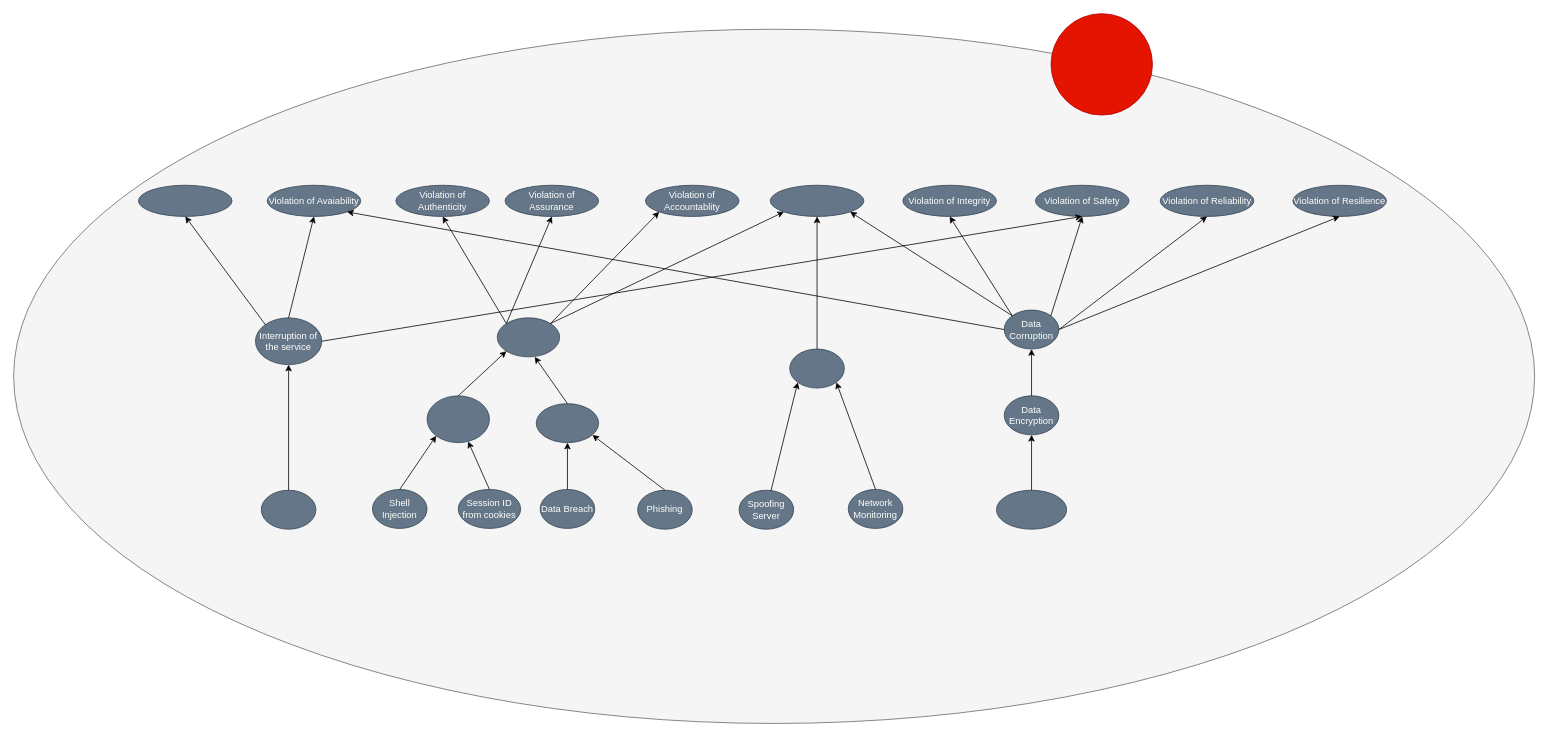
This 1548x737 diagram has some shape labels left out. Here are the shapes that lost their labels. From the top down, the centre of each, then its label:
the point at 1101,64: Outside Attacker
the point at 185,200: System Unavaiability
the point at 816,200: Violation of Confidentiality
the point at 528,337: Unauthorized Acces
the point at 816,368: Interception
the point at 457,419: Privilege Escalation
the point at 567,423: Credential Theft
the point at 288,509: Dos
the point at 1031,509: Ransomware
